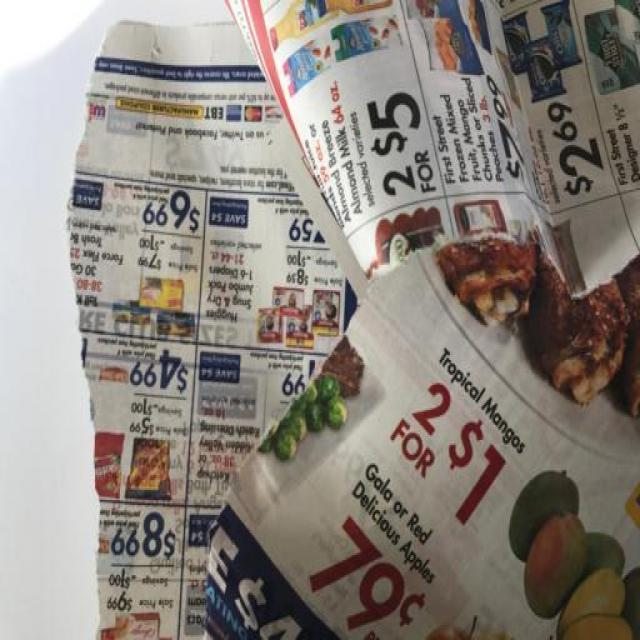paper: (46, 1, 640, 638), (64, 16, 375, 640), (162, 237, 640, 640)
